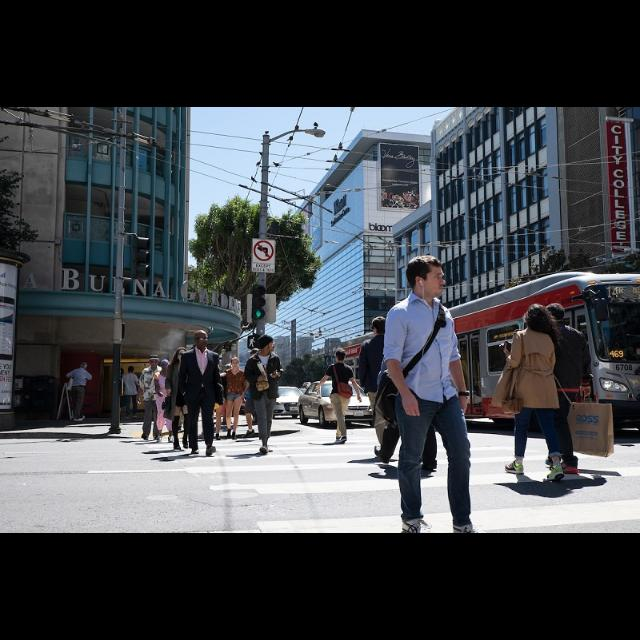head: (408, 256, 448, 300), (545, 304, 567, 326), (528, 306, 548, 328), (372, 317, 388, 337), (194, 330, 210, 348), (259, 336, 277, 352), (177, 348, 189, 362), (149, 357, 159, 369), (231, 358, 241, 370), (250, 349, 260, 361), (336, 350, 346, 362), (161, 361, 171, 372), (81, 362, 89, 370), (128, 366, 134, 374)
person: (530, 302, 616, 478), (490, 302, 566, 484), (175, 328, 225, 458), (358, 315, 400, 463), (243, 334, 285, 456), (315, 348, 363, 446), (161, 346, 195, 452), (240, 347, 274, 439), (138, 353, 166, 441), (223, 356, 249, 442), (154, 358, 176, 444), (66, 361, 94, 423), (120, 365, 140, 421)
